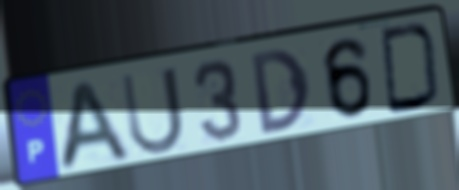3: (191, 56, 245, 146)
6: (319, 35, 375, 122)
A: (55, 77, 135, 176)
D: (377, 21, 443, 117), (247, 45, 313, 138)
U: (118, 63, 188, 159)
